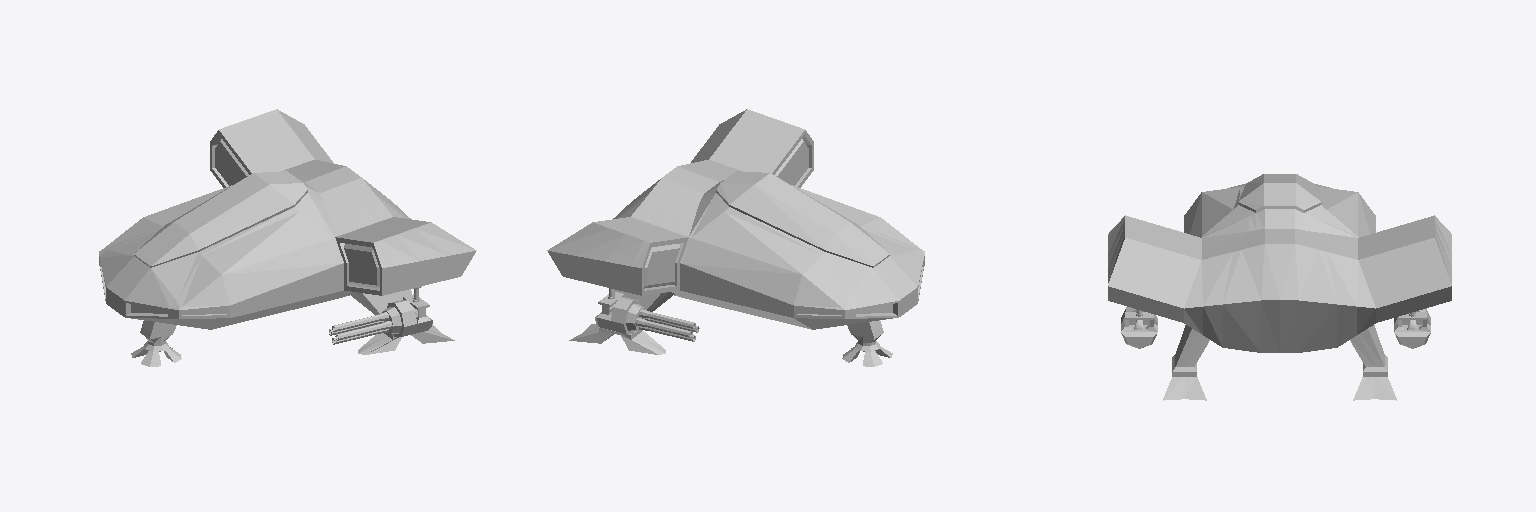
File: aircraft.obj
3 renders of one model, left to right at view 1: azimuth 30°, elevation 25°; view 2: azimuth 150°, elevation 25°; view 3: azimuth 270°, elevation 25°, orthographic.
Visible parts, largest first — view 1: aircraft_tank; view 2: aircraft_tank; view 3: aircraft_tank.
Part boxes in pixels (left/top/right/bottom): aircraft_tank: left=99, top=109, right=476, bottom=366; aircraft_tank: left=547, top=109, right=924, bottom=366; aircraft_tank: left=1108, top=174, right=1451, bottom=400.
Bounding box in the file's own units: 15.12 × 7.81 × 16.06.